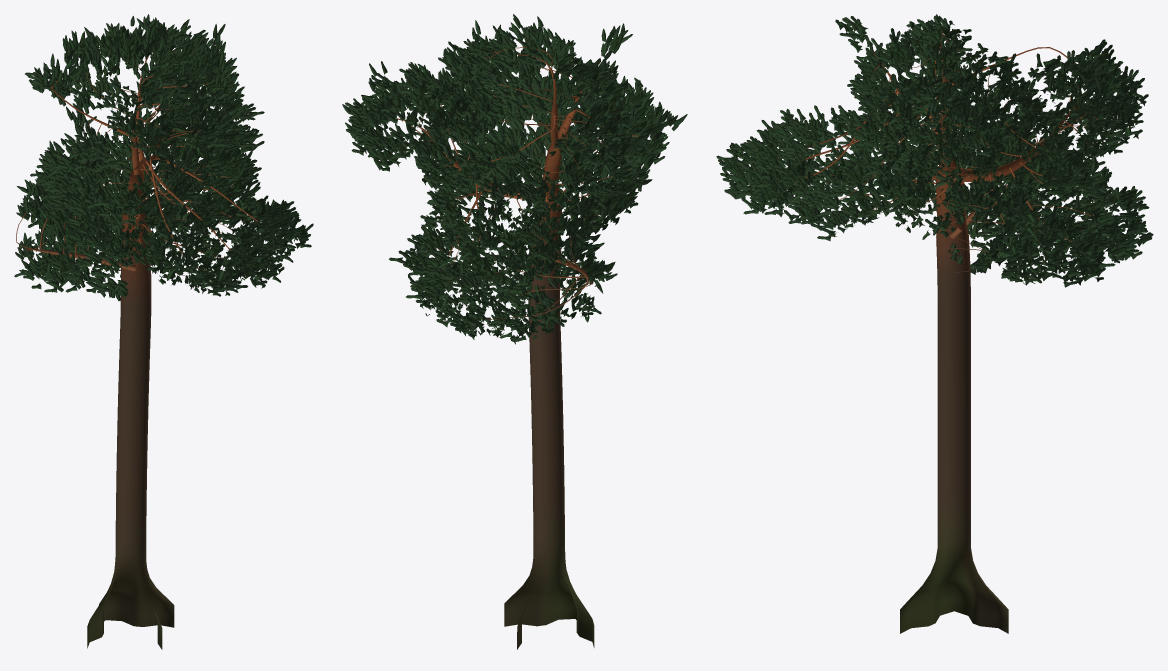
File: SM_Tree_pine_2.glb
3 renders of one model, left to right at view 1: azimuth 30°, elevation 25°; view 2: azimuth 150°, elevation 25°; view 3: azimuth 270°, elevation 25°, orthographic. The views are drawn at different scales.
Parts seen in each view (by area): view 1: SM_Tree_pine_2; view 2: SM_Tree_pine_2; view 3: SM_Tree_pine_2.
Boxes of the visible parts, x1=… form: SM_Tree_pine_2: x1=14, y1=14, x2=313, y2=649; SM_Tree_pine_2: x1=342, y1=14, x2=687, y2=649; SM_Tree_pine_2: x1=716, y1=14, x2=1153, y2=633.
Size of the model in its own units: 7.52 by 18.01 by 11.36.
